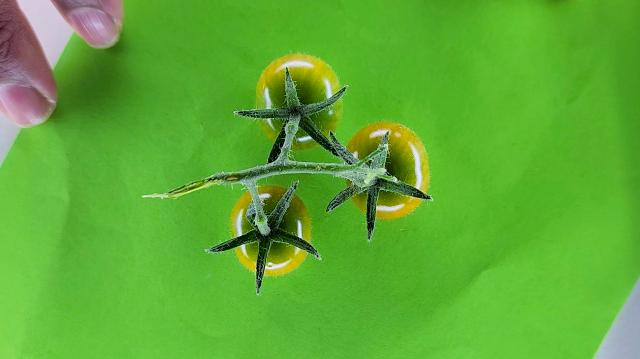Fully Grown: (255, 53, 343, 149), (344, 122, 431, 219), (230, 186, 312, 276)
